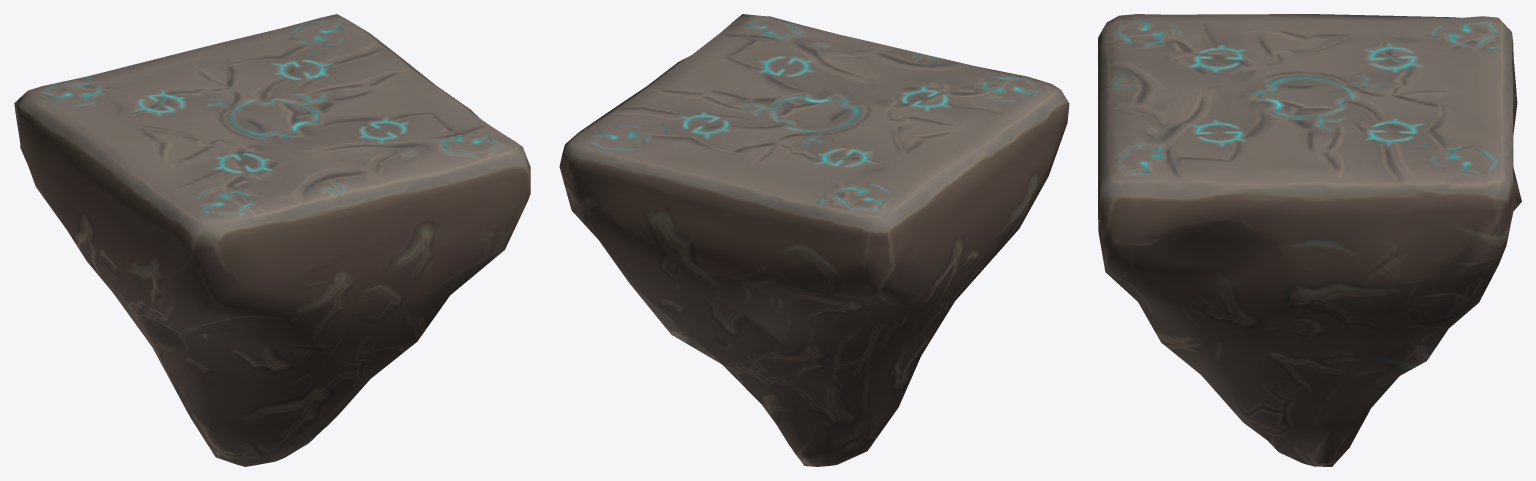
File: blokhandpainted.fbx
3 renders of one model, left to right at view 1: azimuth 30°, elevation 25°; view 2: azimuth 150°, elevation 25°; view 3: azimuth 270°, elevation 25°, orthographic. The views are drawn at different scales.
Parts seen in each view (by area): view 1: Cube; view 2: Cube; view 3: Cube.
Boxes of the visible parts, x1=… form: Cube: x1=14, y1=14, x2=530, y2=466; Cube: x1=559, y1=14, x2=1069, y2=466; Cube: x1=1098, y1=14, x2=1521, y2=466.
Bounding box in the file's own units: 610 × 603 × 618.
1 material, 1 textured.
